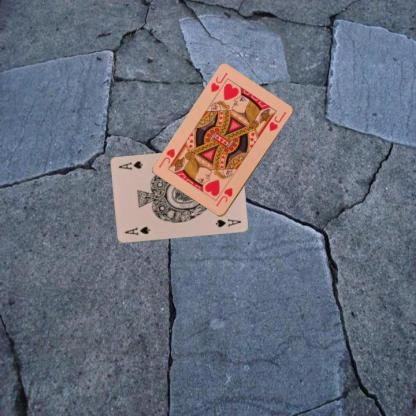As: (122, 224, 151, 237)
Jh: (208, 70, 229, 94), (213, 185, 234, 208)
